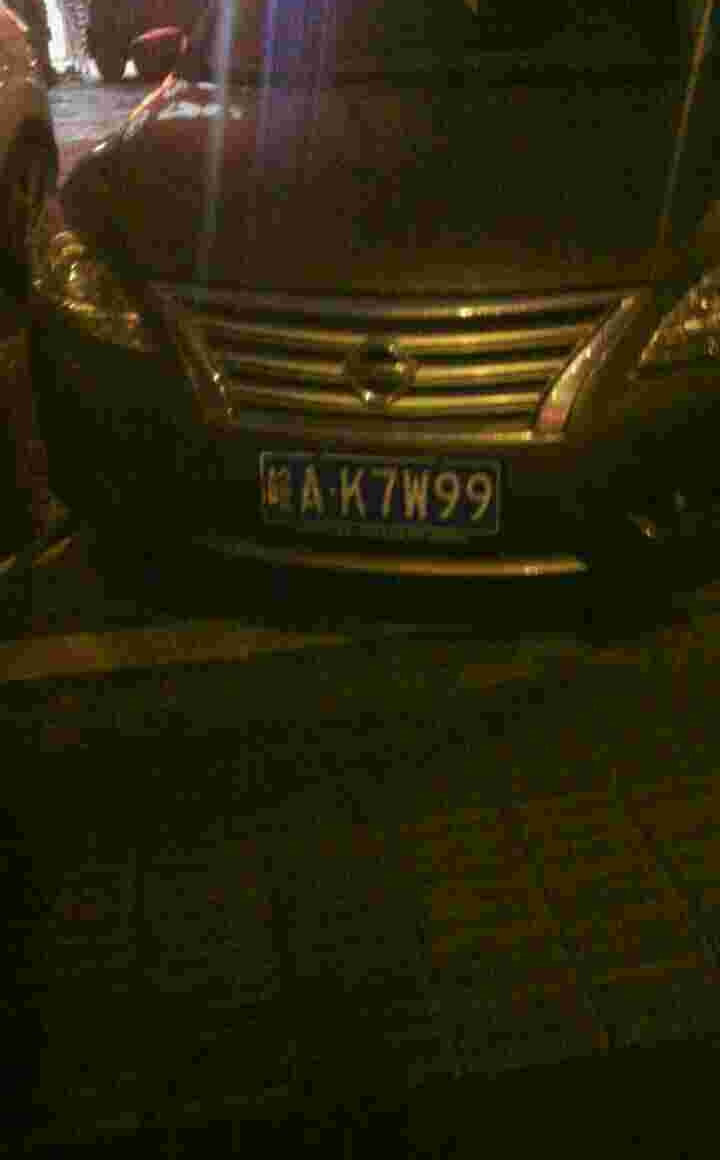plate: (262, 449, 504, 537)
